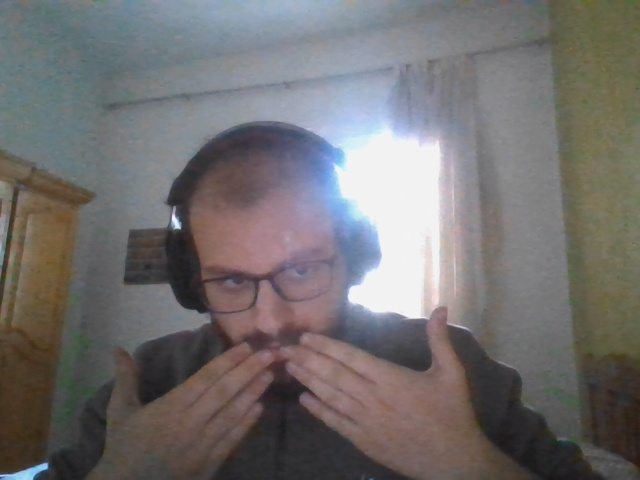Thank You: (108, 336, 469, 480)
